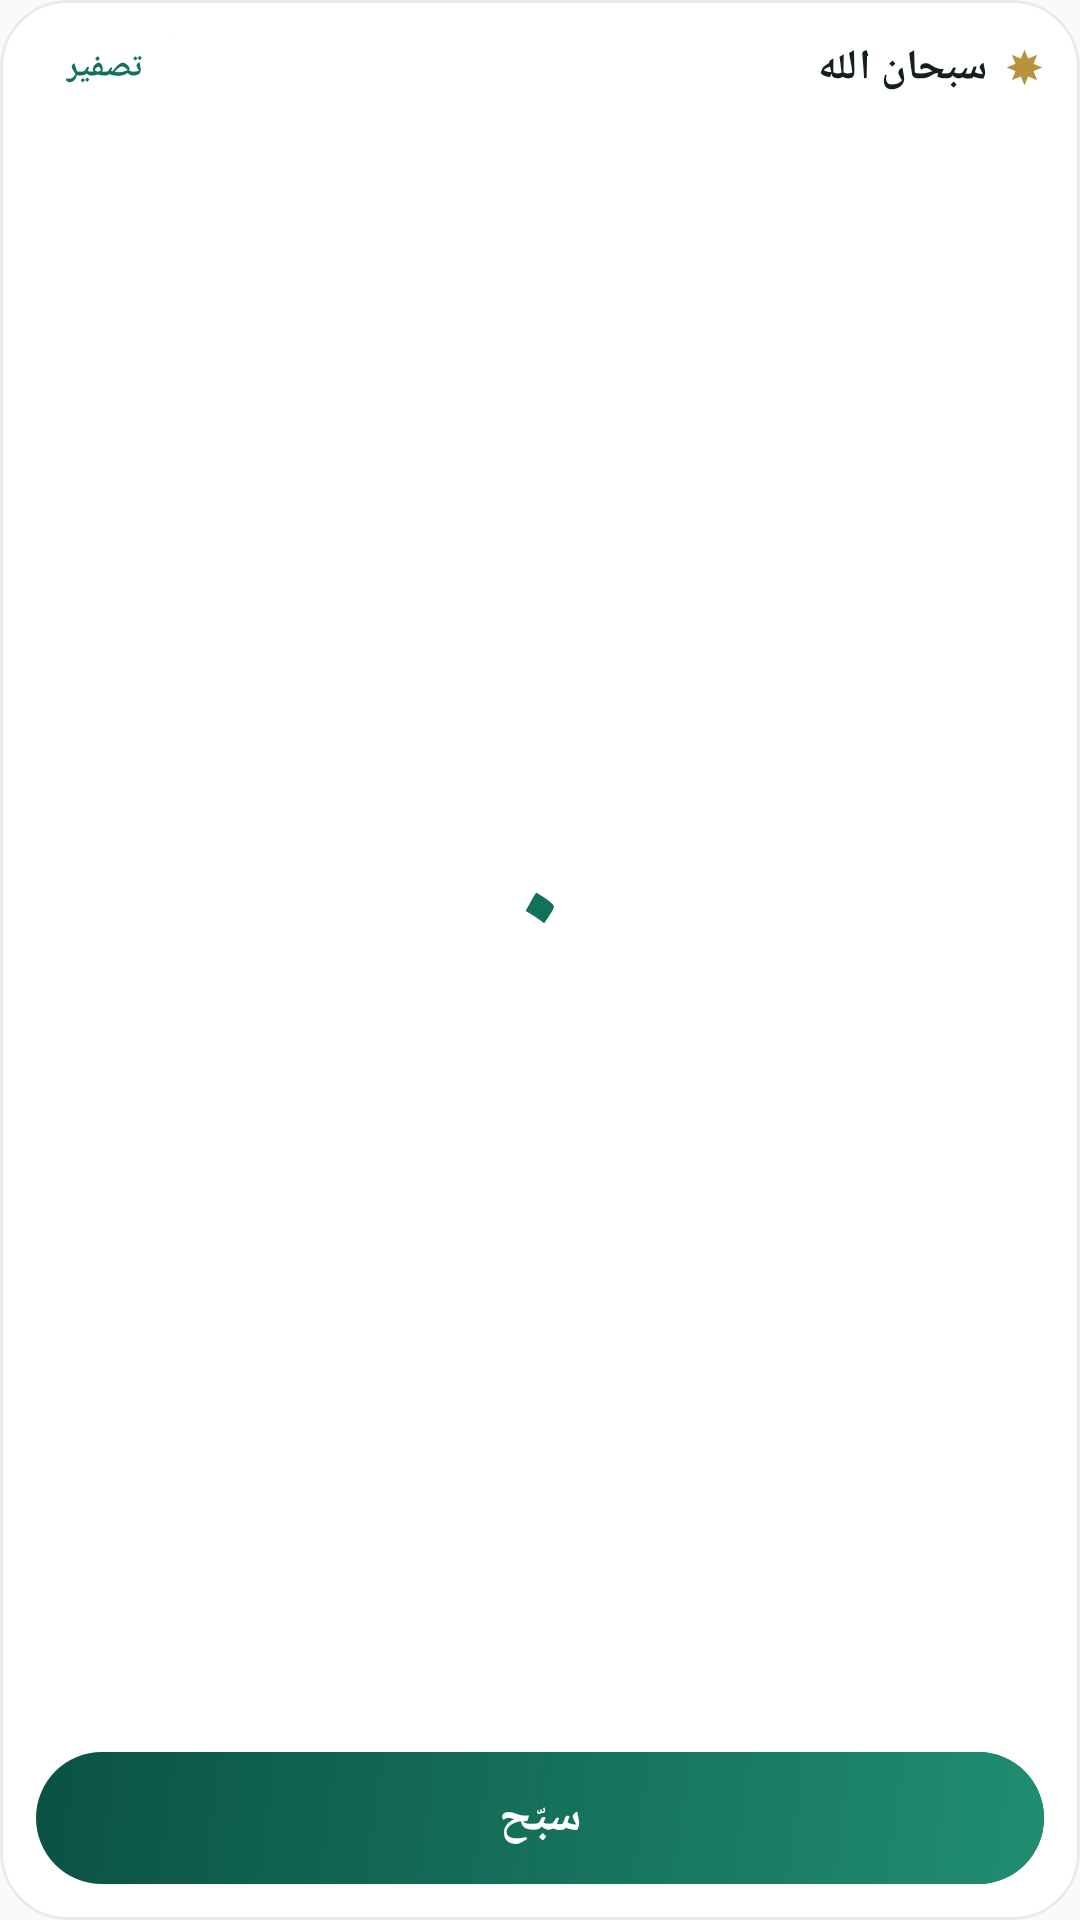

Locate icon controls on the screen. Image size 1080px×1920px, boxes as (x1, y1, x2, y2).
star: (1007, 50, 1042, 85)
